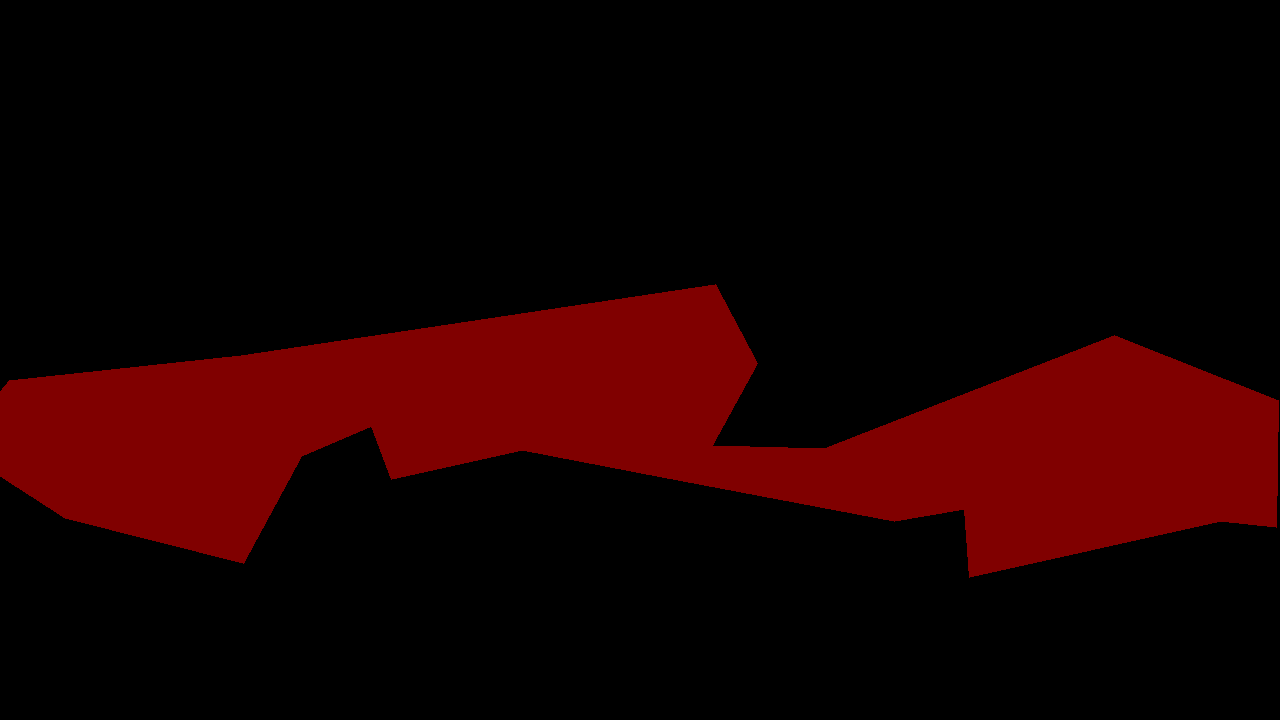fire: (0, 284, 1278, 577)
